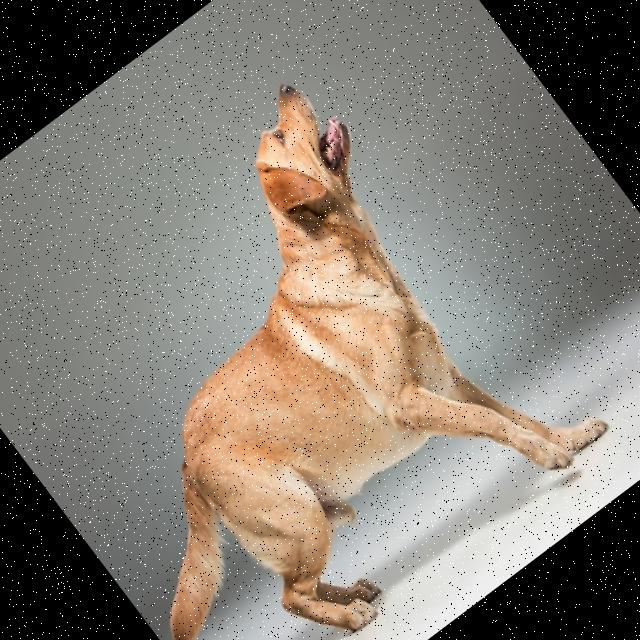Dog: (0, 51, 617, 640)
